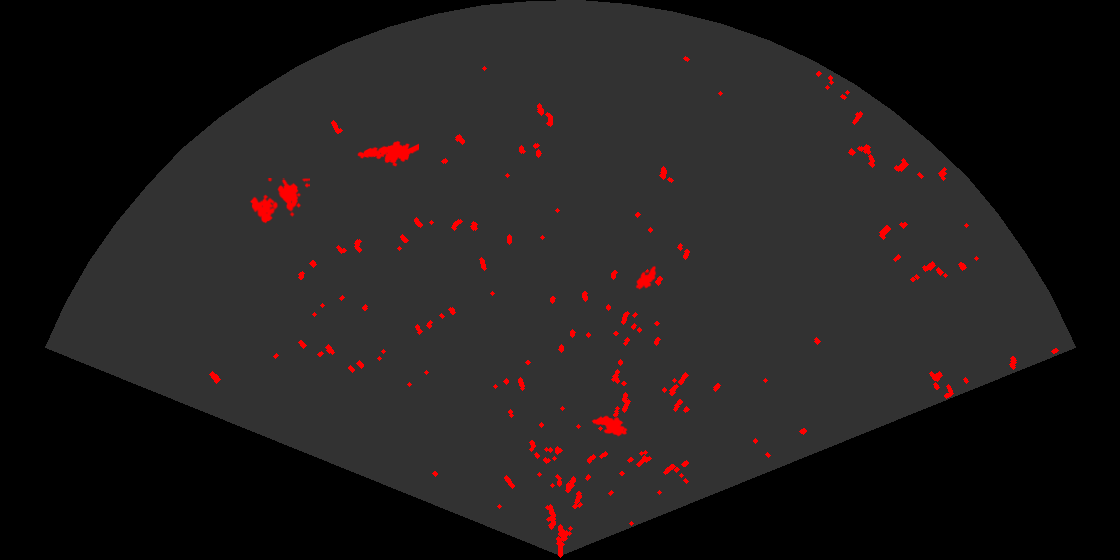AUV: (590, 414, 629, 438), (634, 264, 658, 291)
cage: (248, 178, 310, 225)
frogman: (356, 139, 419, 168)
